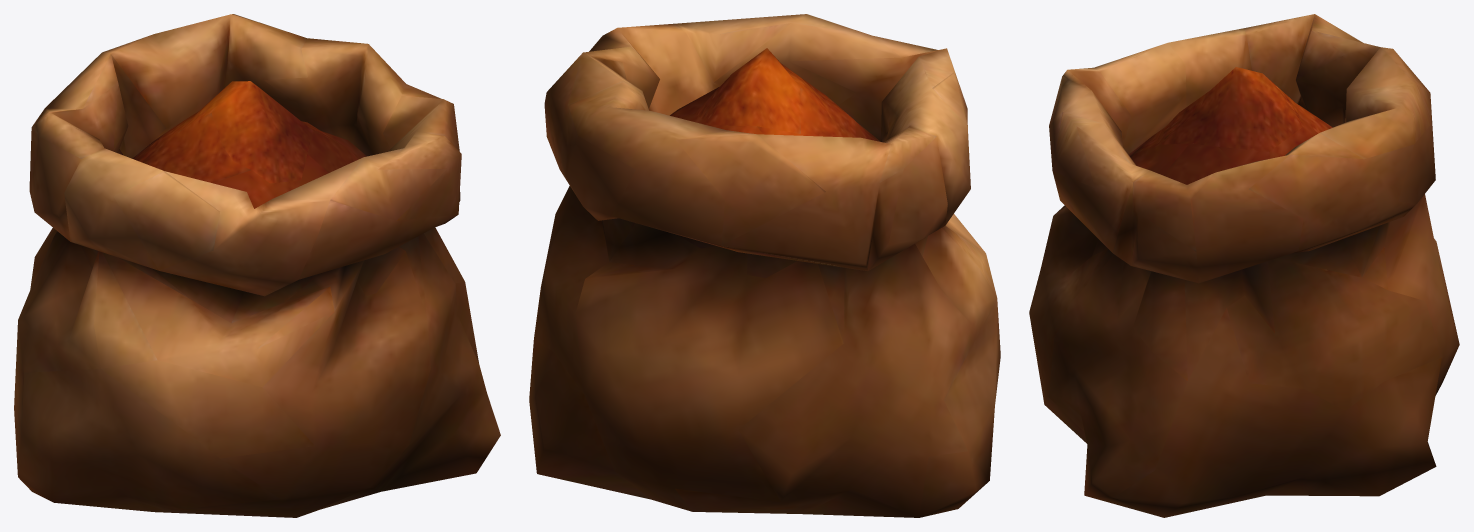
Rendered from especias-mobile.glb.
3 renders of one model, left to right at view 1: azimuth 30°, elevation 25°; view 2: azimuth 150°, elevation 25°; view 3: azimuth 270°, elevation 25°, orthographic. The views are drawn at different scales.
Parts seen in each view (by area): view 1: tripo_node_e817f048-f5bd-4169-9a54-a7b4b347147f; view 2: tripo_node_e817f048-f5bd-4169-9a54-a7b4b347147f; view 3: tripo_node_e817f048-f5bd-4169-9a54-a7b4b347147f.
Boxes of the visible parts, bbox=[...] form: tripo_node_e817f048-f5bd-4169-9a54-a7b4b347147f: bbox=[14, 14, 500, 517]; tripo_node_e817f048-f5bd-4169-9a54-a7b4b347147f: bbox=[529, 14, 1000, 517]; tripo_node_e817f048-f5bd-4169-9a54-a7b4b347147f: bbox=[1029, 14, 1459, 517].
Bounding box in the file's own units: 0.9842 × 0.8756 × 0.9195.
Materials: 1 (1 with a texture image).
